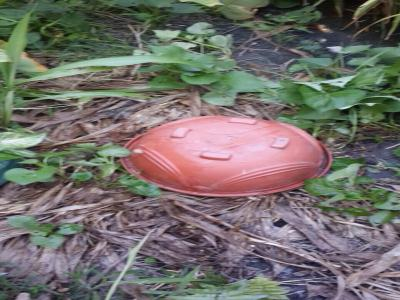bowl: (116, 112, 339, 202)
